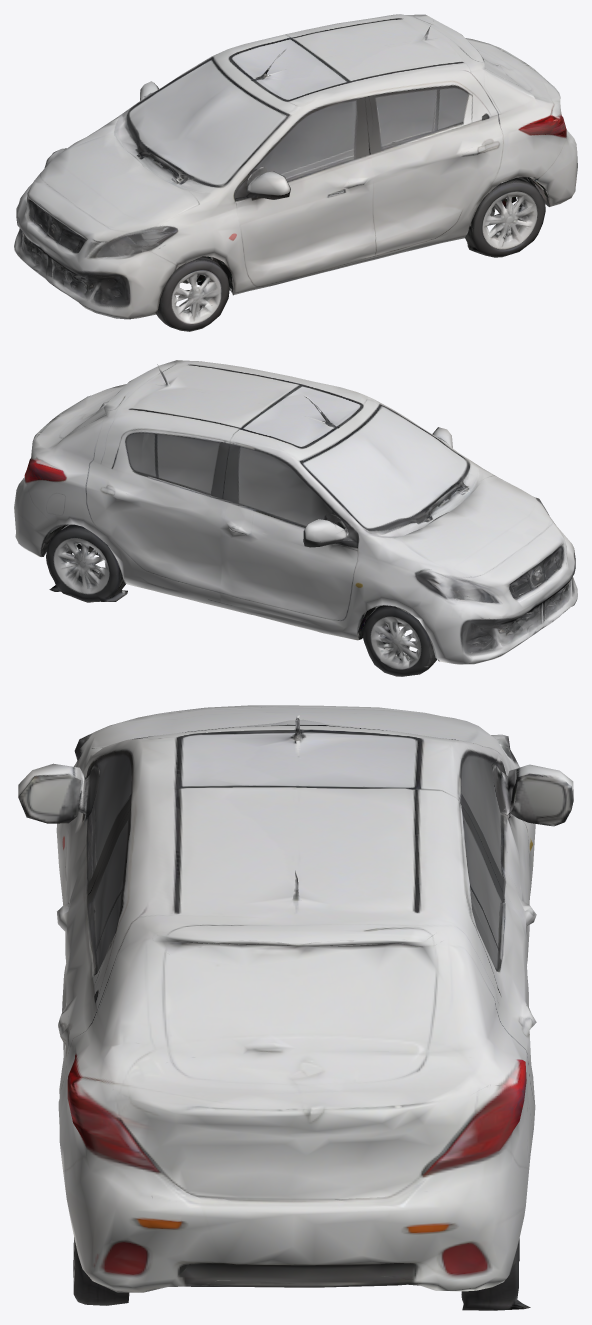
File: IndianCarWhite.fbx
The picture shows the model from 3 angles, top to bottom: view 1: azimuth 30°, elevation 25°; view 2: azimuth 150°, elevation 25°; view 3: azimuth 270°, elevation 25°; orthographic projection. The views are drawn at different scales.
Parts seen in each view (by area): view 1: IndianCarWhite; view 2: IndianCarWhite; view 3: IndianCarWhite.
Boxes of the visible parts, box(x1,y1,x2,y2) form: IndianCarWhite: box(14, 14, 577, 331); IndianCarWhite: box(14, 360, 577, 676); IndianCarWhite: box(18, 705, 573, 1310).
Bounding box in the file's own units: 413 × 167 × 199.
1 material, 1 textured.
